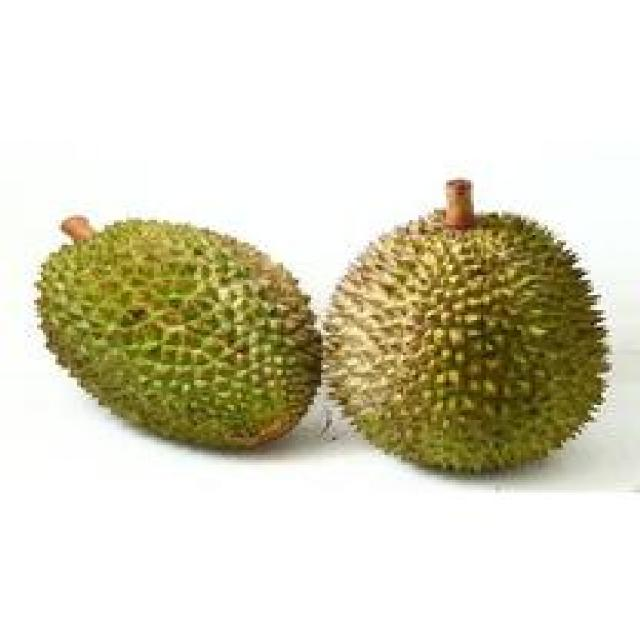fruit: (289, 180, 631, 505), (6, 187, 339, 485)
